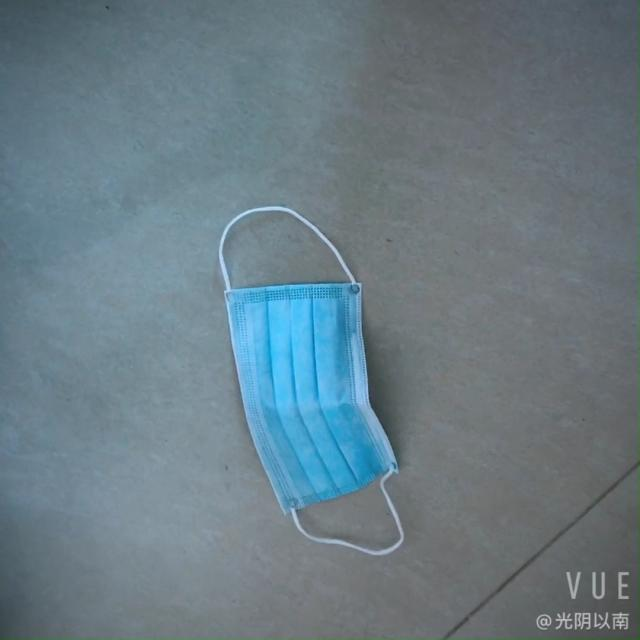non-organic waste: (216, 179, 409, 544)
